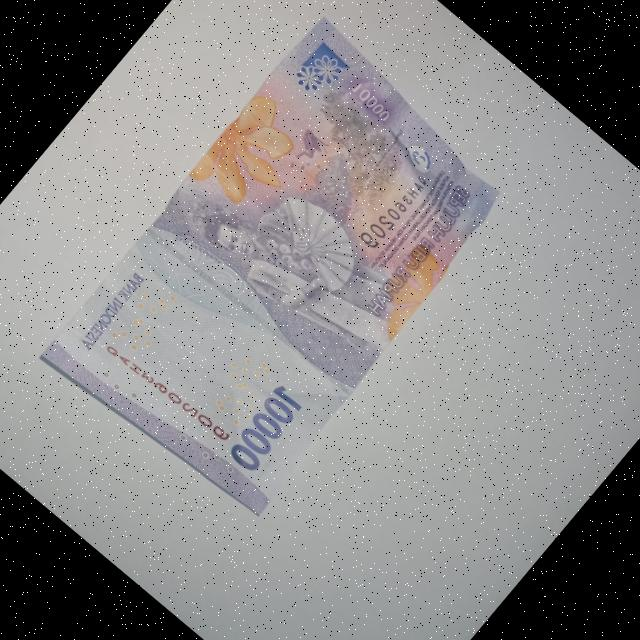10K: (29, 9, 536, 538)
